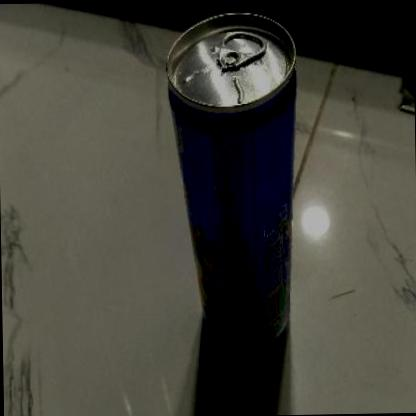alumunium_can: (165, 7, 302, 357)
